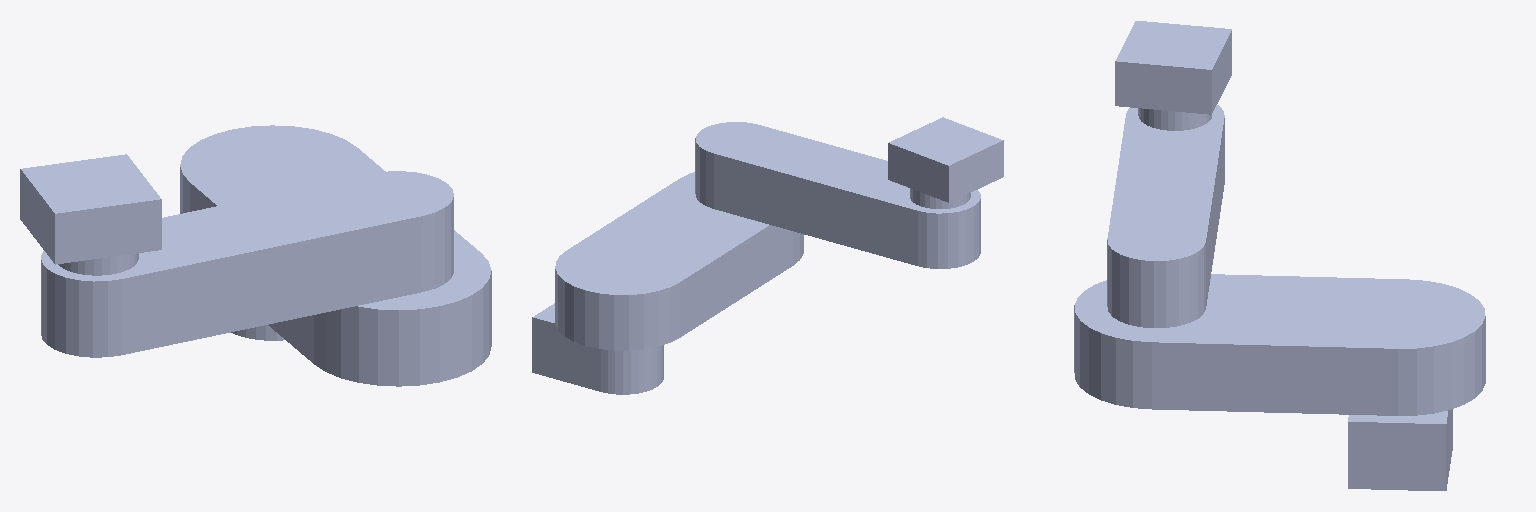
The robot description file, URDF, robot "Assem3":
<?xml version="1.0" encoding="utf-8"?>
<!-- This URDF was automatically created by SolidWorks to URDF Exporter! Originally created by [author] ([email redacted]) 
     Commit Version: 1.6.0-1-g15f4949  Build Version: 1.6.7594.29634
     For more information, please see http://wiki.ros.org/sw_urdf_exporter -->
<robot
  name="Assem3">
  <link
    name="base_link">
    <inertial>
      <origin
        xyz="1.0927323858247 -0.686700374911266 0.878210293558317"
        rpy="0 0 0" />
      <mass
        value="49.4805903270839" />
      <inertia
        ixx="11.5209337707897"
        ixy="0.00410789115198139"
        ixz="0.0178710713508414"
        iyy="11.328909472299"
        iyz="-0.0818380164177233"
        izz="0.667865148013673" />
    </inertial>
    <visual>
      <origin
        xyz="0 0 0"
        rpy="0 0 0" />
      <geometry>
        <mesh
          filename="package://Assem3/meshes/base_link.STL" />
      </geometry>
      <material
        name="">
        <color
          rgba="0.792156862745098 0.819607843137255 0.933333333333333 1" />
      </material>
    </visual>
    <collision>
      <origin
        xyz="0 0 0"
        rpy="0 0 0" />
      <geometry>
        <mesh
          filename="package://Assem3/meshes/base_link.STL" />
      </geometry>
    </collision>
  </link>
  <link
    name="link1">
    <inertial>
      <origin
        xyz="0.607427868764121 0.600124651109817 -0.0293617820424991"
        rpy="0 0 0" />
      <mass
        value="9.14159265358979" />
      <inertia
        ixx="0.0540508039409069"
        ixy="0.00535901115247588"
        ixz="-0.00205278300100914"
        iyy="0.0854151878954083"
        iyz="0.000338250493949397"
        izz="0.0864441362382773" />
    </inertial>
    <visual>
      <origin
        xyz="0 0 0"
        rpy="0 0 0" />
      <geometry>
        <mesh
          filename="package://Assem3/meshes/link1.STL" />
      </geometry>
      <material
        name="">
        <color
          rgba="0.792156862745098 0.819607843137255 0.933333333333333 1" />
      </material>
    </visual>
    <collision>
      <origin
        xyz="0 0 0"
        rpy="0 0 0" />
      <geometry>
        <mesh
          filename="package://Assem3/meshes/link1.STL" />
      </geometry>
    </collision>
  </link>
  <joint
    name="joint1"
    type="prismatic">
    <origin
      xyz="0.23491 -0.71189 0.25792"
      rpy="1.5708 0 0" />
    <parent
      link="base_link" />
    <child
      link="link1" />
    <axis
      xyz="0 1 0" />
    <limit
      lower="-0.61997"
      upper="0.53003"
      effort="0"
      velocity="0" />
  </joint>
  <link
    name="link2">
    <inertial>
      <origin
        xyz="0.533893145714207 0.592478233336552 0.232921747907672"
        rpy="0 0 0" />
      <mass
        value="38.0899693899575" />
      <inertia
        ixx="1.96301747042866"
        ixy="0.00136418524491909"
        ixz="0.115685951451439"
        iyy="2.21115735519495"
        iyz="-0.0183697778805451"
        izz="0.413810459703726" />
    </inertial>
    <visual>
      <origin
        xyz="0 0 0"
        rpy="0 0 0" />
      <geometry>
        <mesh
          filename="package://Assem3/meshes/link2.STL" />
      </geometry>
      <material
        name="">
        <color
          rgba="0.792156862745098 0.819607843137255 0.933333333333333 1" />
      </material>
    </visual>
    <collision>
      <origin
        xyz="0 0 0"
        rpy="0 0 0" />
      <geometry>
        <mesh
          filename="package://Assem3/meshes/link2.STL" />
      </geometry>
    </collision>
  </link>
  <joint
    name="joint2"
    type="continuous">
    <origin
      xyz="0 0.15 0"
      rpy="0 0.011092 0" />
    <parent
      link="link1" />
    <child
      link="link2" />
    <axis
      xyz="0 1 0" />
  </joint>
  <link
    name="link3">
    <inertial>
      <origin
        xyz="0.711083401880687 0.592024443703264 0.43268379203283"
        rpy="0 0 0" />
      <mass
        value="22.319689898686" />
      <inertia
        ixx="0.119448628578949"
        ixy="0.00495112731304777"
        ixz="-0.0506799799176714"
        iyy="1.1262466603104"
        iyz="0.000255898675990723"
        izz="1.09738543525927" />
    </inertial>
    <visual>
      <origin
        xyz="0 0 0"
        rpy="0 0 0" />
      <geometry>
        <mesh
          filename="package://Assem3/meshes/link3.STL" />
      </geometry>
      <material
        name="">
        <color
          rgba="0.792156862745098 0.819607843137255 0.933333333333333 1" />
      </material>
    </visual>
    <collision>
      <origin
        xyz="0 0 0"
        rpy="0 0 0" />
      <geometry>
        <mesh
          filename="package://Assem3/meshes/link3.STL" />
      </geometry>
    </collision>
  </link>
  <joint
    name="joint3"
    type="continuous">
    <origin
      xyz="-0.5 0.15 0"
      rpy="0 -0.022487 0" />
    <parent
      link="link2" />
    <child
      link="link3" />
    <axis
      xyz="0 1 0" />
    <limit
      lower="-3.1416"
      upper="0"
      effort="0"
      velocity="0" />
  </joint>
  <link
    name="link_gripper">
    <inertial>
      <origin
        xyz="1.01020885967361 0.60618744391378 0.432617689256355"
        rpy="0 0 0" />
      <mass
        value="4.49087385212341" />
      <inertia
        ixx="0.0202300826662309"
        ixy="0.000451288581608197"
        ixz="1.97414037568136E-05"
        iyy="0.0287483587037319"
        iyz="-0.000107583395336084"
        izz="0.0203081873104123" />
    </inertial>
    <visual>
      <origin
        xyz="0 0 0"
        rpy="0 0 0" />
      <geometry>
        <mesh
          filename="package://Assem3/meshes/link_gripper.STL" />
      </geometry>
      <material
        name="">
        <color
          rgba="0.792156862745098 0.819607843137255 0.933333333333333 1" />
      </material>
    </visual>
    <collision>
      <origin
        xyz="0 0 0"
        rpy="0 0 0" />
      <geometry>
        <mesh
          filename="package://Assem3/meshes/link_gripper.STL" />
      </geometry>
    </collision>
  </link>
  <joint
    name="joint_gripper"
    type="continuous">
    <origin
      xyz="-0.6 0.15 0"
      rpy="0 0.011395 0" />
    <parent
      link="link3" />
    <child
      link="link_gripper" />
    <axis
      xyz="0 1 0" />
  </joint>
</robot>

--- What the picture shows (computed from the rendered views, not written in the file) ---
Views: 3 orthographic renders of the robot side by side, from view 1: azimuth 30°, elevation 25°; view 2: azimuth 150°, elevation 25°; view 3: azimuth 270°, elevation 25°.
Model Assem3 with 5 links and 4 joints (3 continuous, 1 prismatic), rooted at base_link, posed every joint at zero.
Links seen in each view (by area): view 1: link3, link2, link_gripper; view 2: link2, link3, link_gripper, link1; view 3: link2, link3, link_gripper, link1.
Link boxes in pixels (bbox=[...]): link3: bbox=[41, 171, 453, 357]; link2: bbox=[180, 125, 491, 386]; link_gripper: bbox=[20, 154, 161, 275]; link2: bbox=[555, 172, 803, 350]; link3: bbox=[695, 122, 980, 268]; link_gripper: bbox=[888, 117, 1003, 208]; link1: bbox=[532, 303, 663, 394]; link2: bbox=[1074, 274, 1485, 415]; link3: bbox=[1107, 105, 1224, 327]; link_gripper: bbox=[1115, 21, 1231, 130]; link1: bbox=[1348, 409, 1452, 490].
Size in the robot's own frame: 0.9686 by 0.8317 by 0.6 metres.
4 mesh visuals loaded from 5 distinct referenced files (4 binary STL); not drawn: 1 (reference not matched to a file when rendering).